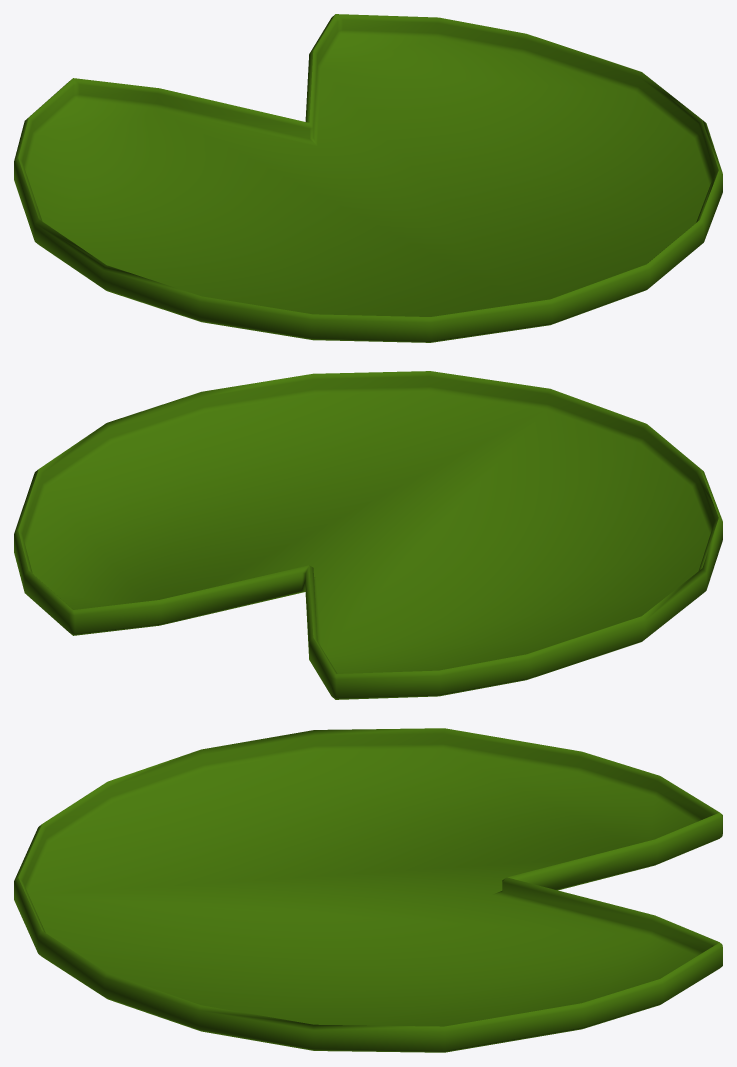
The model's file is LilyPad.fbx.
3 renders of one model, top to bottom at view 1: azimuth 30°, elevation 25°; view 2: azimuth 150°, elevation 25°; view 3: azimuth 270°, elevation 25°, orthographic.
Visible parts, largest first — view 1: LilyPad; view 2: LilyPad; view 3: LilyPad.
Part boxes in pixels (bbox=[...]): LilyPad: bbox=[14, 14, 722, 342]; LilyPad: bbox=[14, 371, 722, 699]; LilyPad: bbox=[14, 728, 722, 1052].
Size of the model in its own units: 226 by 9.17 by 225.
